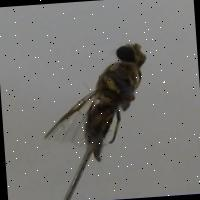Oriental-fruit-fly: (38, 36, 149, 169)
